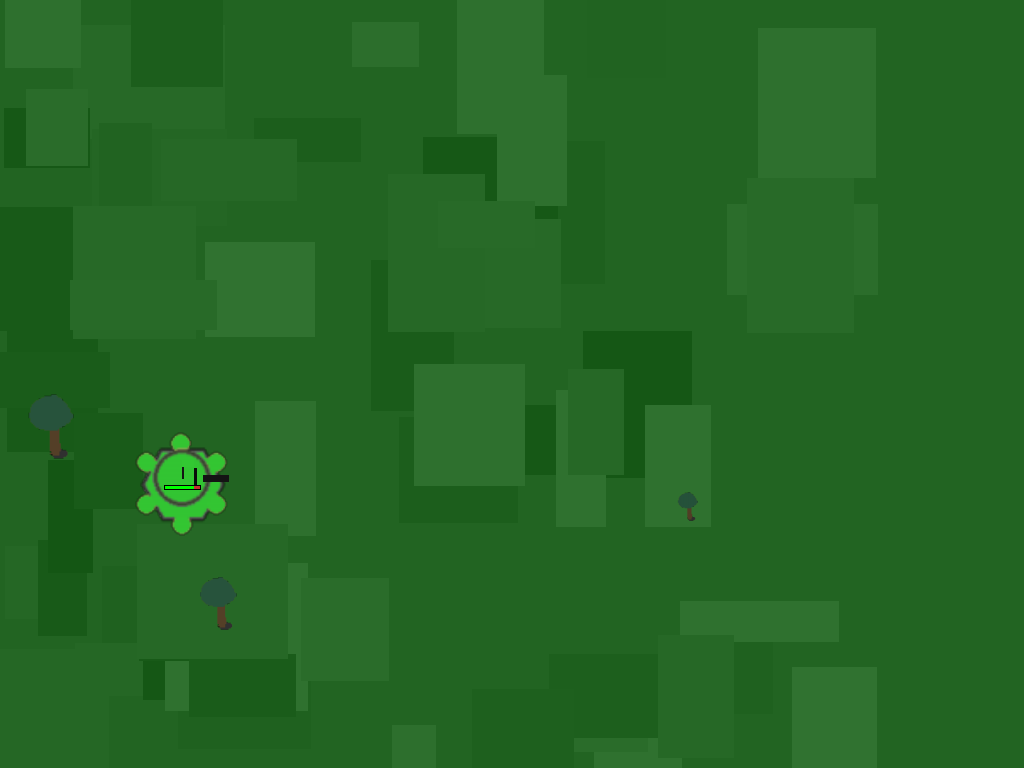APC_chn: (132, 434, 232, 534)
